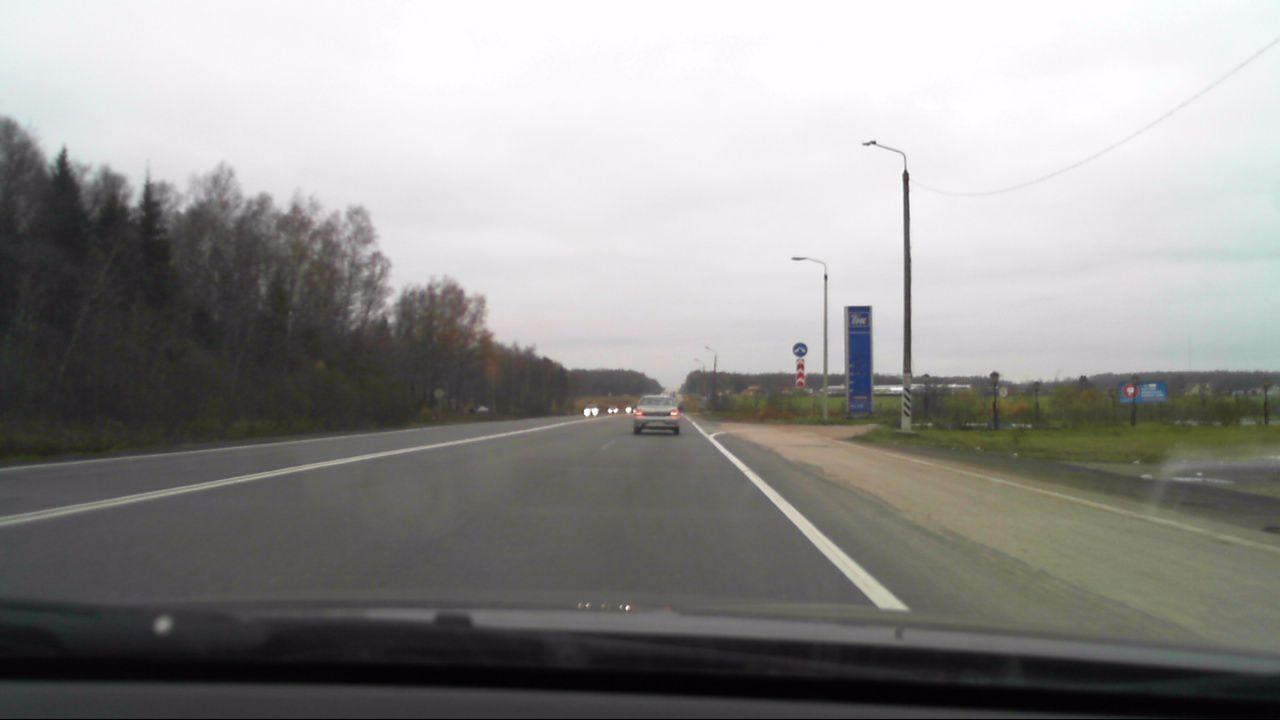4_2_3: (790, 341, 808, 357)
8_22_3: (796, 357, 806, 386)
